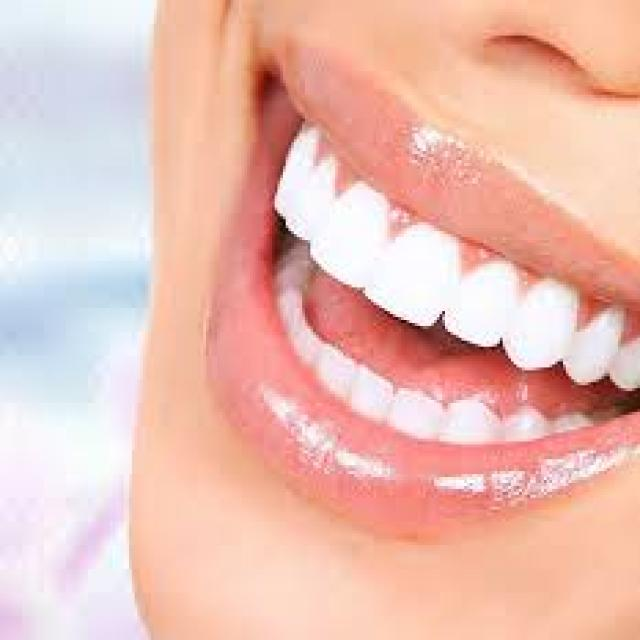tooth: (379, 237, 442, 317), (329, 195, 374, 278), (519, 290, 566, 356), (393, 385, 439, 442), (464, 270, 506, 329), (448, 400, 500, 439), (352, 364, 387, 421), (294, 172, 327, 225), (580, 317, 610, 373), (322, 347, 352, 397), (503, 412, 552, 435), (292, 323, 322, 358), (289, 133, 313, 172), (277, 284, 305, 317), (618, 344, 640, 385), (277, 255, 305, 278), (558, 412, 588, 429), (286, 240, 308, 249)
